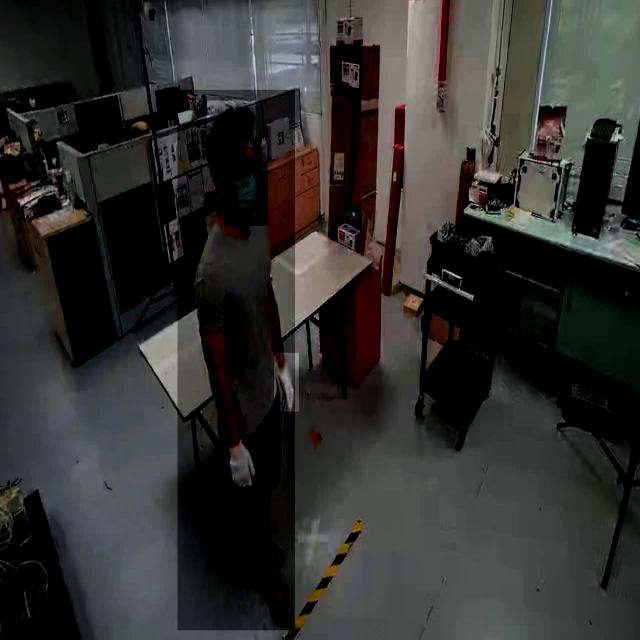face_mask: (224, 156, 268, 226)
hand_glove: (225, 434, 257, 500), (273, 353, 299, 412)
head_nohelmet: (207, 100, 256, 148)
person: (177, 90, 295, 631)
